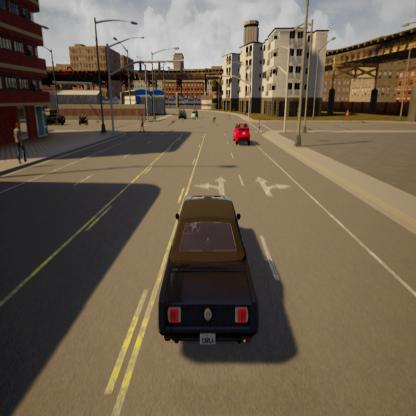Cars: (159, 190, 264, 358), (230, 115, 252, 148)
Pedestrian: (9, 114, 32, 164)
